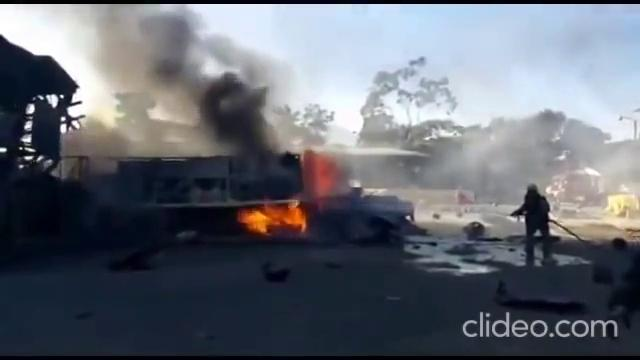Fire: (226, 181, 321, 246)
Smoke: (81, 3, 289, 181)
